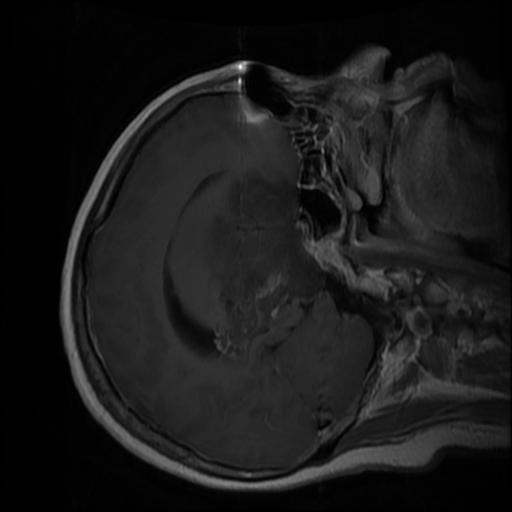glioma: (206, 172, 322, 363)
